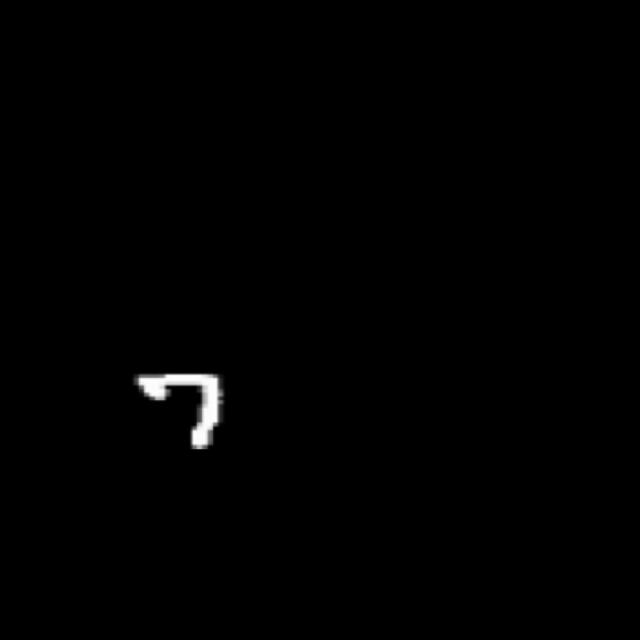seven -7-: (125, 363, 240, 458)
